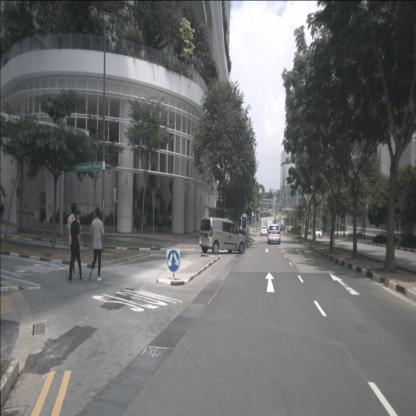human-pedestrian-adult: (69, 208, 86, 284), (67, 203, 83, 280), (89, 206, 104, 282), (158, 211, 162, 233)
vehicle-car: (199, 217, 246, 254), (268, 224, 280, 245), (260, 226, 268, 236), (314, 228, 322, 238), (277, 224, 286, 232)
